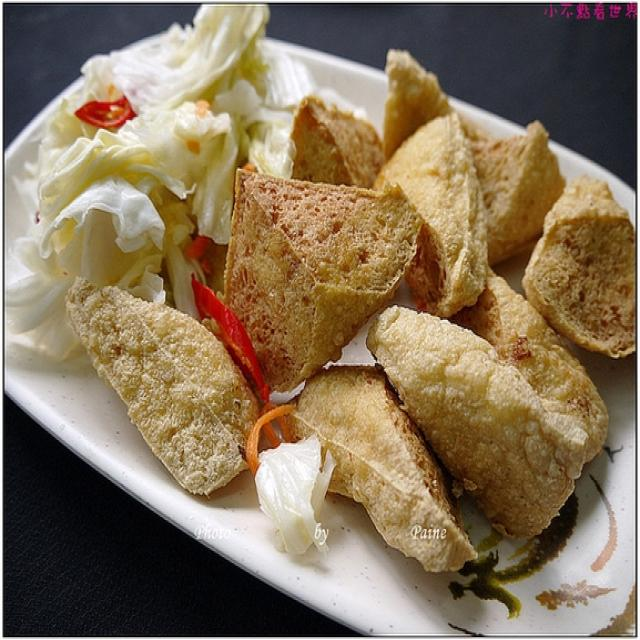豆腐料理: (8, 15, 638, 610)
